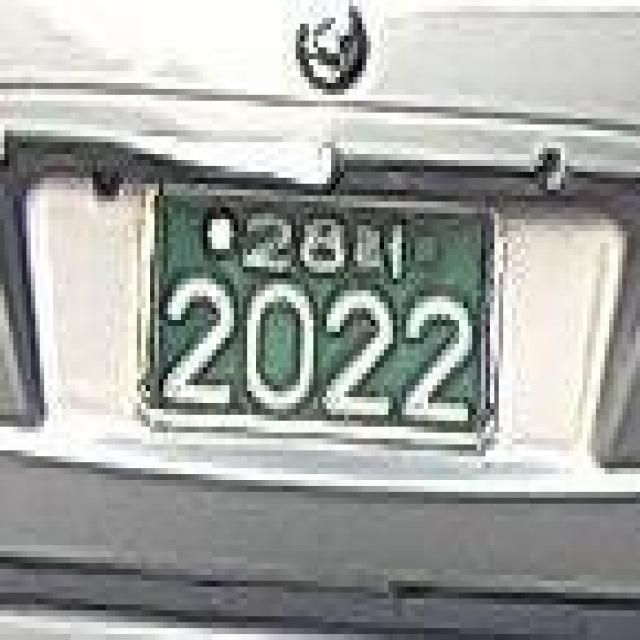illegal_plate: (126, 172, 512, 456)
